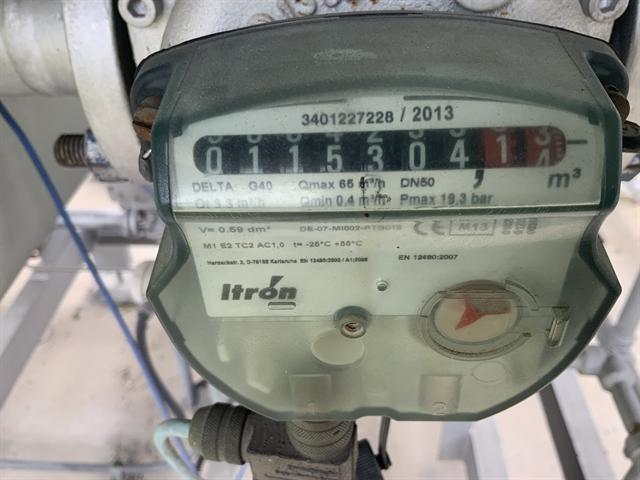analog_dial: (187, 119, 592, 183)
